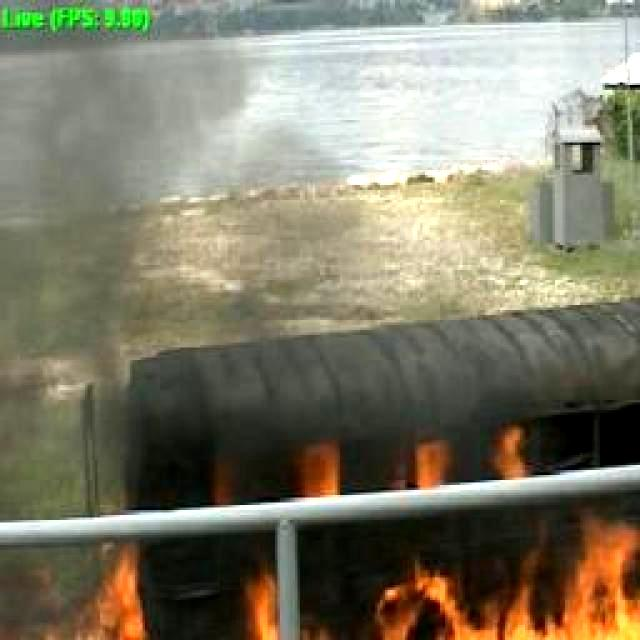fire: (367, 522, 640, 637), (204, 436, 360, 504), (80, 532, 144, 640), (240, 538, 300, 640), (413, 445, 537, 493)
